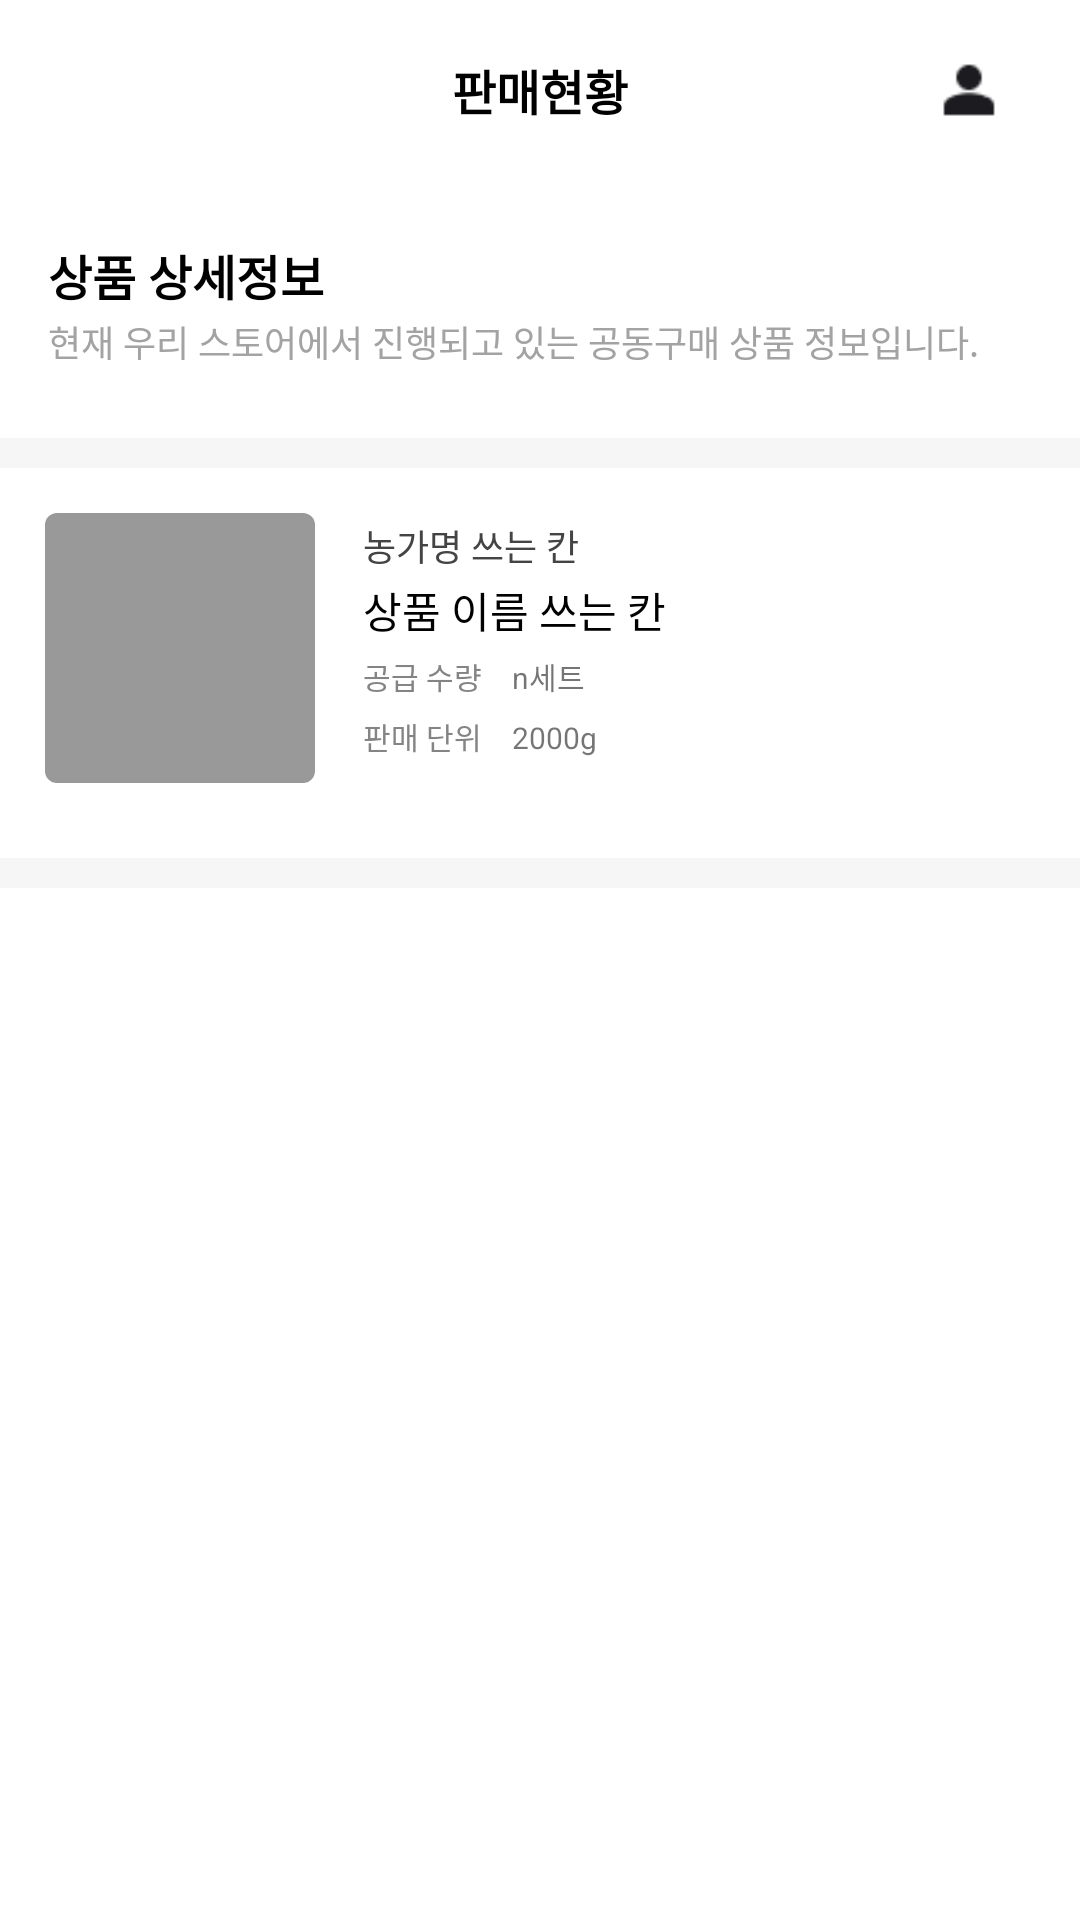

Named icons in this screenshot (1080*1920) and their centers, [x,y]:
person: [969,90]
